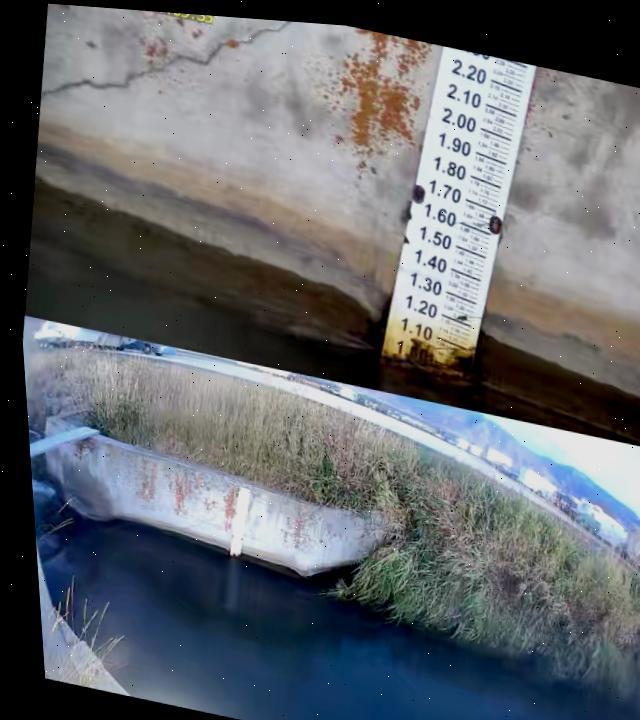1: (381, 333, 485, 383)
Water Level: (317, 342, 583, 399)
staff gauge: (346, 32, 560, 400)
